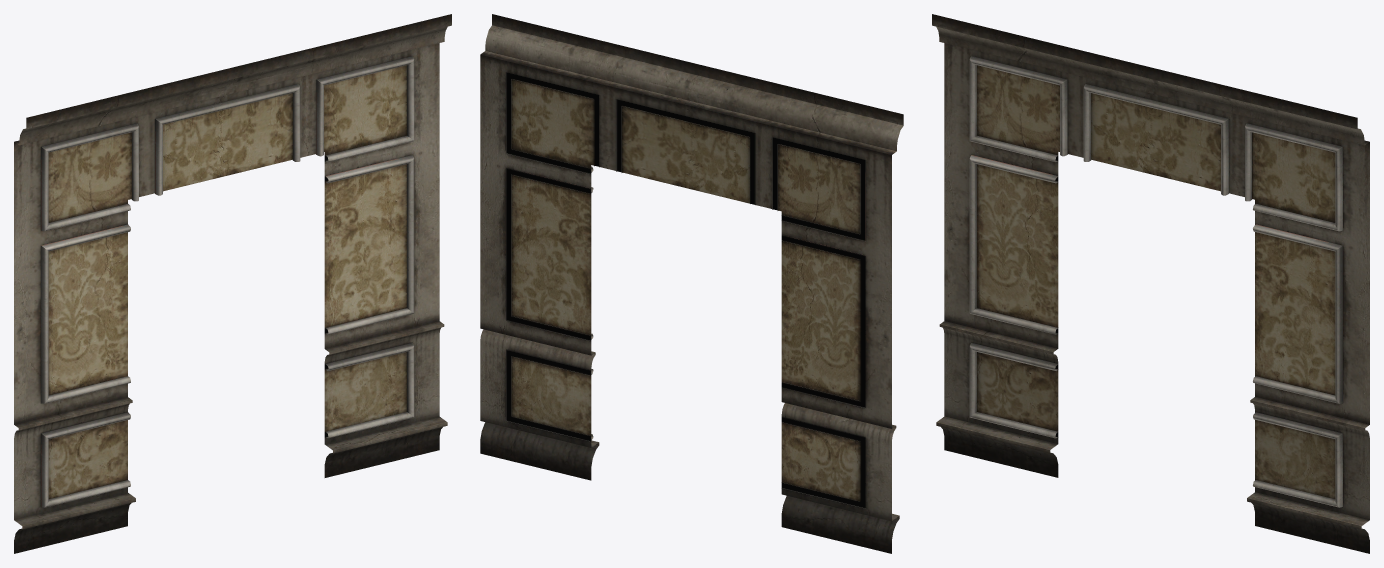
File: default_wood_panneling_door.DAE
3 renders of one model, left to right at view 1: azimuth 30°, elevation 25°; view 2: azimuth 150°, elevation 25°; view 3: azimuth 330°, elevation 25°, orthographic. The views are drawn at different scales.
Parts seen in each view (by area): view 1: Object004; view 2: Object004; view 3: Object004.
Boxes of the visible parts, left/top/right/bottom form: Object004: left=14, top=14, right=451, bottom=553; Object004: left=480, top=14, right=903, bottom=553; Object004: left=932, top=14, right=1369, bottom=553.
Size of the model in its own units: 4 by 4 by 0.2045.
